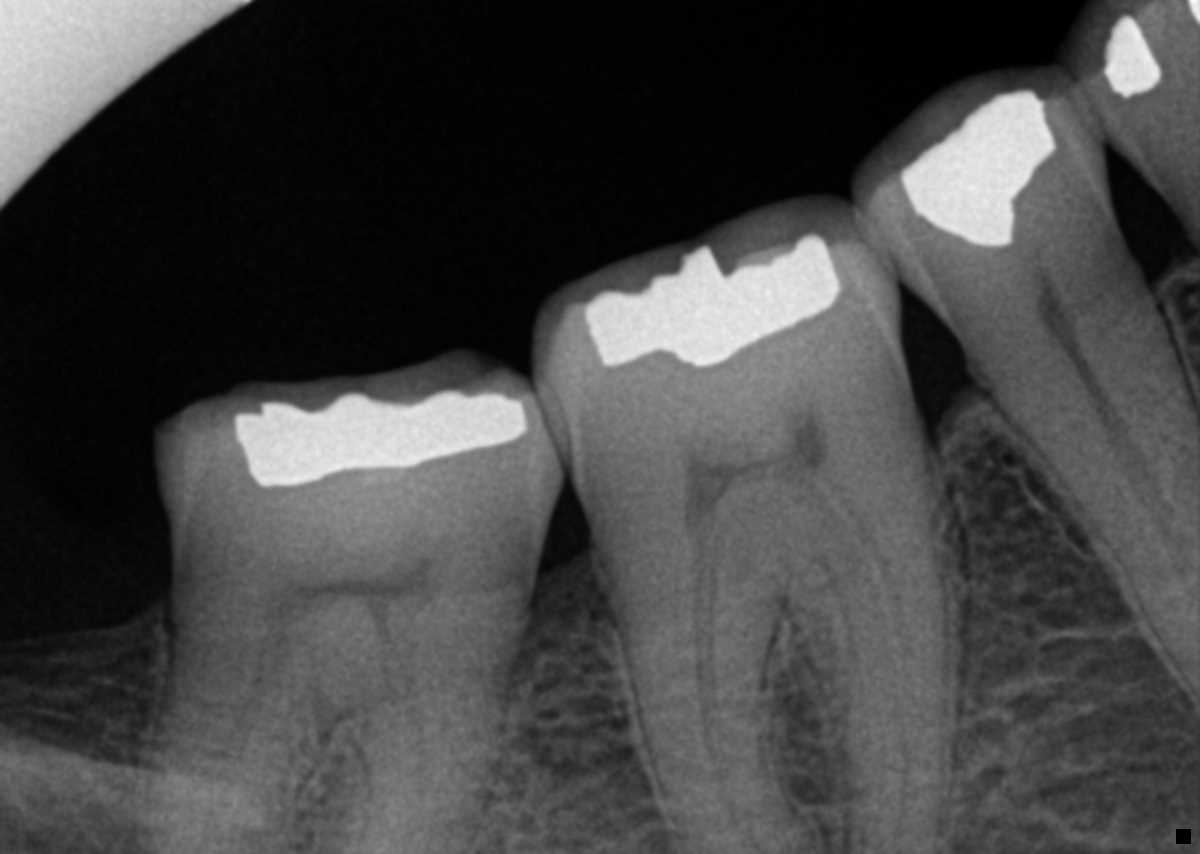Distal Canal: (685, 508, 765, 854), (206, 632, 291, 825)
Distal Root: (591, 488, 816, 854), (145, 608, 334, 854)
Main Canal: (1063, 341, 1199, 580)
Main Root: (983, 296, 1200, 722)
Mesial Canal: (788, 470, 912, 844)
Mesial Root: (765, 425, 958, 853), (318, 588, 535, 854)
